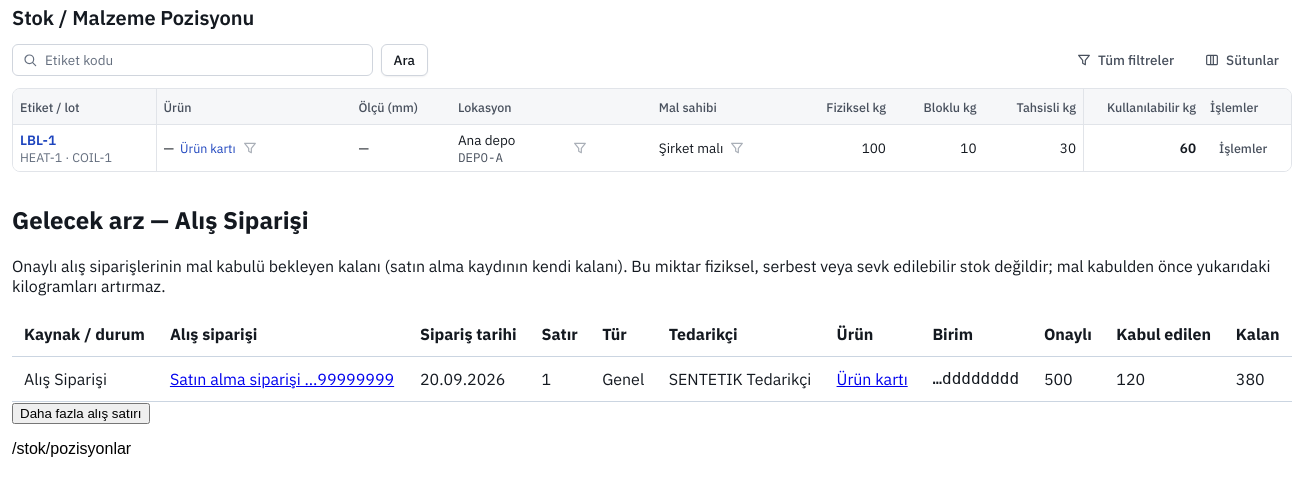
Test: AT-064 ST-01 purchase remainder as future supply › links the order and product only for their own capabilities, and pages with the owner cursor
This screenshot has width=1304, height=497.
Click the button "Daha fazla alış satırı" at {"x": 81, "y": 413}, box [12,403,150,424]
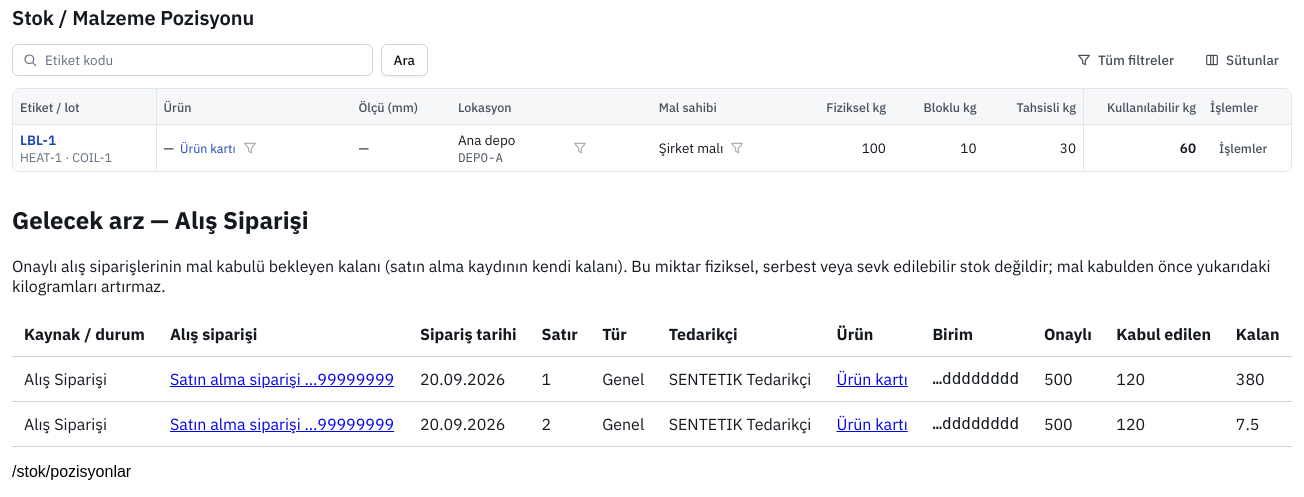
Expected: the button "Daha fazla alış satırı" is gone
